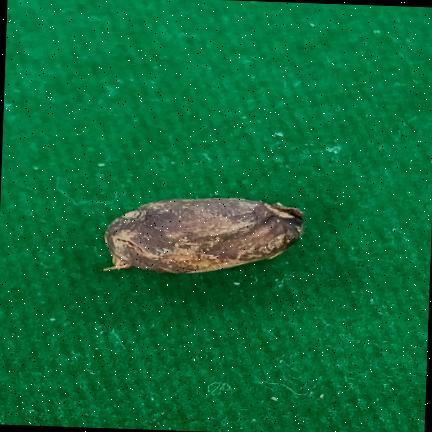full-black: (104, 198, 303, 274)
